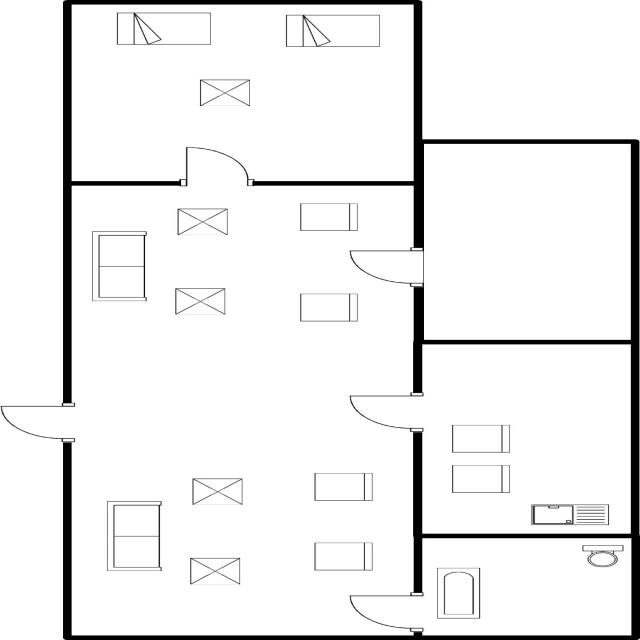bed: (276, 9, 389, 51), (110, 8, 217, 49)
coffee_table: (181, 553, 247, 588), (192, 74, 257, 108), (185, 475, 250, 508), (171, 205, 235, 238), (169, 286, 230, 319)
large_sink: (573, 541, 626, 570)
large_sofa: (80, 227, 154, 304), (96, 497, 167, 576)
sink: (524, 500, 616, 529)
small_sofa: (291, 200, 366, 236), (448, 461, 520, 498), (308, 468, 380, 504), (444, 421, 518, 456), (308, 539, 379, 574), (292, 290, 362, 325)
tub: (430, 564, 487, 624)
